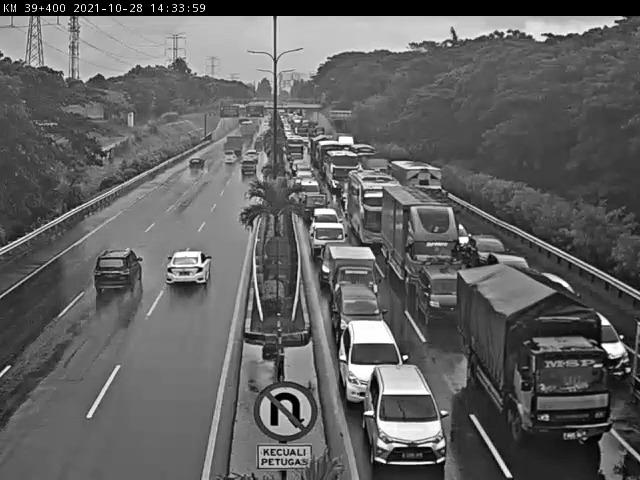big bus: (348, 171, 401, 247), (322, 151, 362, 193)
big truck: (457, 269, 610, 446), (380, 185, 459, 295)
car: (360, 367, 449, 467), (334, 322, 409, 404), (567, 304, 631, 379), (416, 262, 472, 328), (322, 246, 384, 304), (327, 286, 389, 343), (89, 245, 144, 296), (161, 248, 213, 287), (309, 222, 350, 264), (466, 235, 508, 270), (487, 253, 530, 281), (298, 194, 330, 224), (447, 220, 470, 251), (296, 178, 320, 199), (312, 208, 340, 226), (239, 162, 255, 181), (186, 158, 203, 174), (294, 167, 312, 182), (222, 152, 237, 168)
